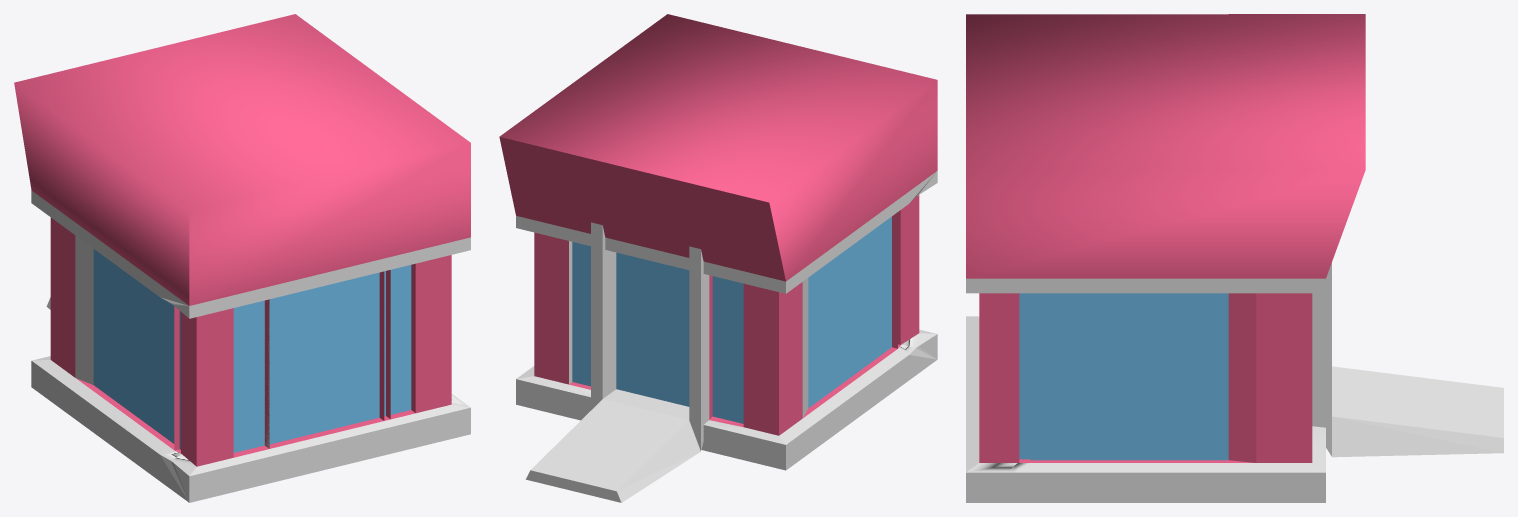
Rendered from Shop2x2x2Pink.fbx.
The picture shows the model from 3 angles, left to right: view 1: azimuth 30°, elevation 25°; view 2: azimuth 150°, elevation 25°; view 3: azimuth 270°, elevation 25°; orthographic projection. The views are drawn at different scales.
Visible parts, largest first — view 1: Shop.002; view 2: Shop.002; view 3: Shop.002.
Boxes of the visible parts, bbox=[...] form: Shop.002: bbox=[14, 14, 470, 502]; Shop.002: bbox=[499, 14, 937, 502]; Shop.002: bbox=[966, 14, 1503, 502].
Bounding box in the file's own units: 2 × 1.98 × 2.91.
1 material, 1 textured.
